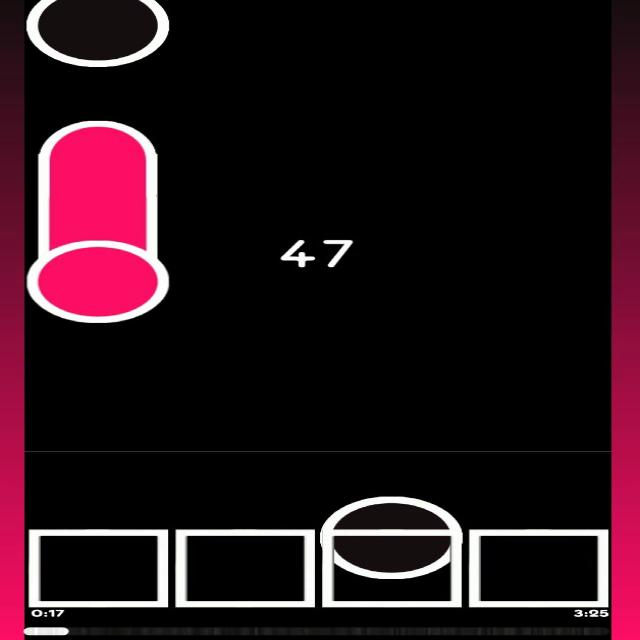end_hold: (41, 110, 155, 160)
note: (319, 492, 465, 579), (25, 0, 171, 66)
start_hold: (29, 220, 170, 322)
